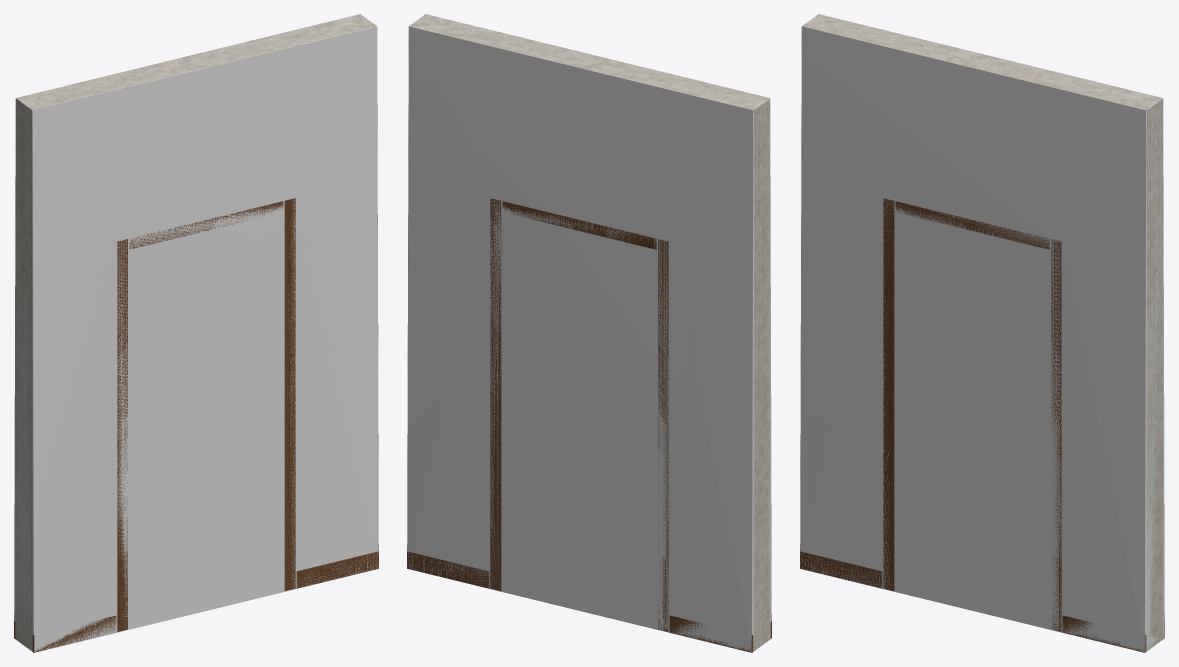
Rendered from SM_KitParedePorta.glb.
3 views of the same model, side by side, from view 1: azimuth 30°, elevation 25°; view 2: azimuth 150°, elevation 25°; view 3: azimuth 330°, elevation 25° (orthographic).
Visible parts, largest first — view 1: SM_KitParedePorta_col, SM_KitParedePorta_Mesh; view 2: SM_KitParedePorta_col, SM_KitParedePorta_Mesh; view 3: SM_KitParedePorta_col, SM_KitParedePorta_Mesh.
Part boxes in pixels (x1,y1,x2,y2): SM_KitParedePorta_col: (14, 14, 378, 652); SM_KitParedePorta_Mesh: (14, 14, 378, 652); SM_KitParedePorta_col: (407, 15, 771, 652); SM_KitParedePorta_Mesh: (407, 14, 771, 652); SM_KitParedePorta_col: (800, 15, 1164, 652); SM_KitParedePorta_Mesh: (800, 14, 1164, 652).
Bounding box in the file's own units: 2 × 3 × 0.2.
2 materials, 2 textured.
